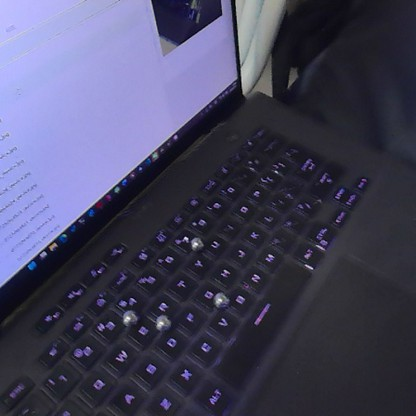ironball: (211, 287, 231, 309), (149, 313, 170, 332), (119, 309, 136, 327), (188, 234, 203, 251)
